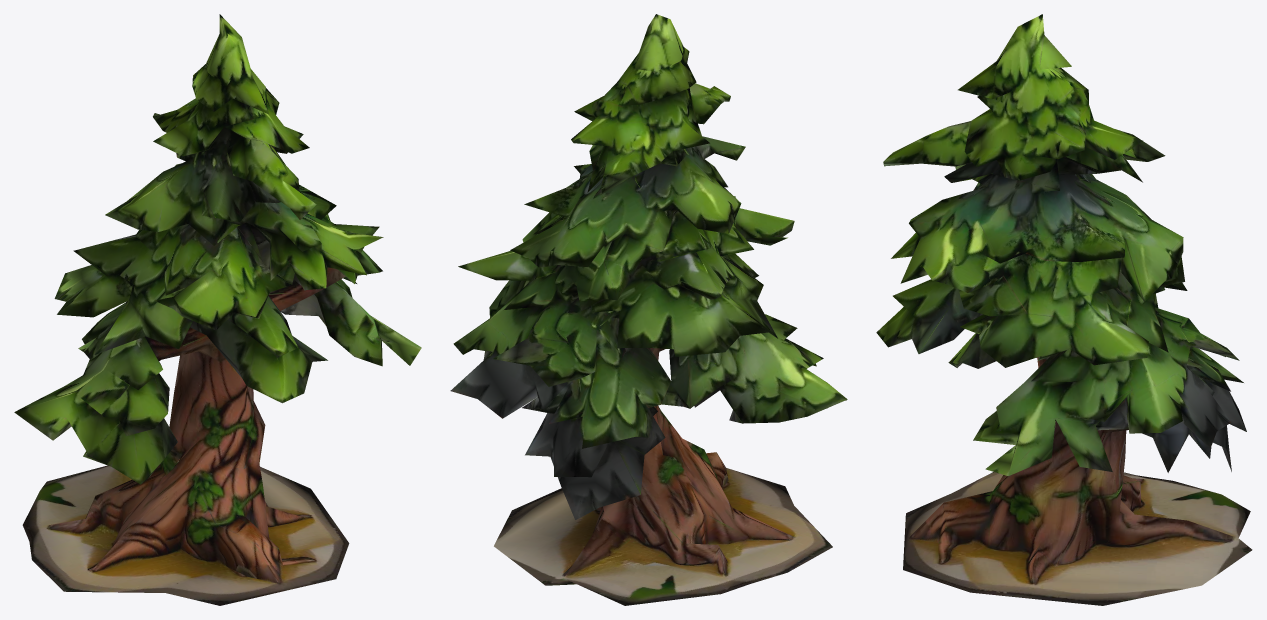
The model's file is tree1.glb.
3 renders of one model, left to right at view 1: azimuth 30°, elevation 25°; view 2: azimuth 150°, elevation 25°; view 3: azimuth 270°, elevation 25°, orthographic. The views are drawn at different scales.
Parts seen in each view (by area): view 1: Mesh1.0; view 2: Mesh1.0; view 3: Mesh1.0.
Boxes of the visible parts, x1,y1,x2,y2 form: Mesh1.0: (14, 14, 421, 605); Mesh1.0: (450, 14, 847, 605); Mesh1.0: (876, 14, 1252, 605).
Bounding box in the file's own units: 1.52 × 1.97 × 1.26.
1 material, 1 textured.
